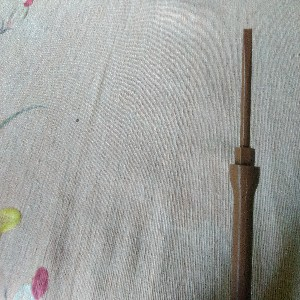obeng: (228, 27, 261, 300)
